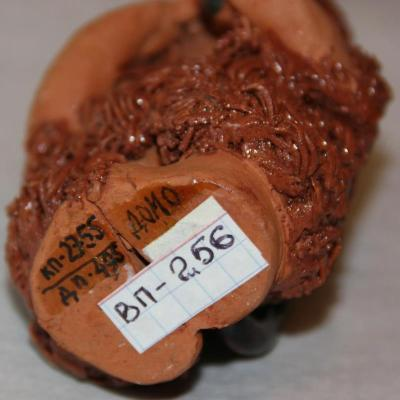sculpture: (5, 0, 394, 396)
